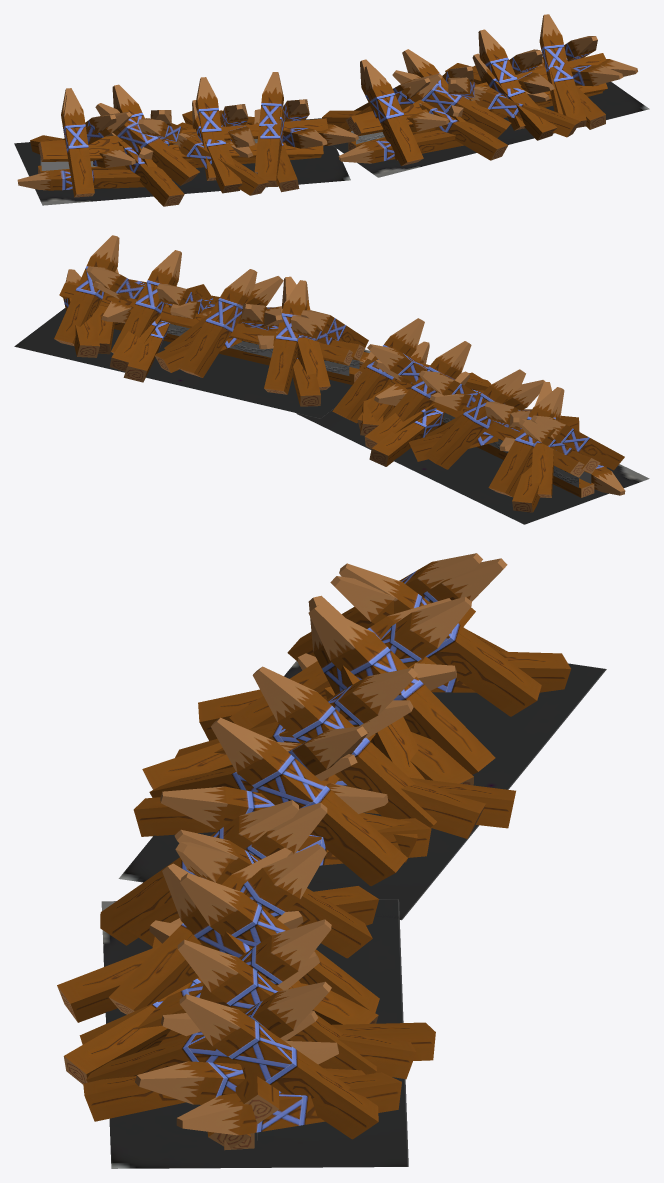
The model's file is ZhaLan.fbx.
3 views of the same model, one above another, from view 1: azimuth 30°, elevation 25°; view 2: azimuth 150°, elevation 25°; view 3: azimuth 270°, elevation 25° (orthographic). The views are drawn at different scales.
Visible parts, largest first — view 1: zhalan02, zhalan05, zhalan03, zhalan07, zhalan09, zhalan01, zhalan01_yingzi, zhalan01_yingzi01; view 2: zhalan09, zhalan01, zhalan02, zhalan01_yingzi01, zhalan05, zhalan07, zhalan01_yingzi, zhalan03; view 3: zhalan01, zhalan09, zhalan05, zhalan07, zhalan02, zhalan01_yingzi01, zhalan03, zhalan01_yingzi.
Part boxes in pixels (<box>): zhalan02: <box>39,93,327,197</box>; zhalan05: <box>340,53,623,165</box>; zhalan03: <box>17,109,358,206</box>; zhalan07: <box>322,57,637,163</box>; zhalan09: <box>346,14,606,160</box>; zhalan01: <box>38,72,328,180</box>; zhalan01_yingzi: <box>14,118,350,205</box>; zhalan01_yingzi01: <box>332,81,649,177</box>; zhalan09: <box>54,235,352,394</box>; zhalan01: <box>332,318,606,497</box>; zhalan02: <box>357,341,624,497</box>; zhalan01_yingzi01: <box>14,308,370,418</box>; zhalan05: <box>91,268,368,390</box>; zhalan07: <box>63,269,369,406</box>; zhalan01_yingzi: <box>296,408,649,524</box>; zhalan03: <box>360,352,625,512</box>; zhalan01: <box>211,558,541,886</box>; zhalan09: <box>128,802,379,1140</box>; zhalan05: <box>79,800,416,1148</box>; zhalan07: <box>57,886,435,1150</box>; zhalan02: <box>149,553,507,862</box>; zhalan01_yingzi01: <box>101,899,408,1168</box>; zhalan03: <box>133,651,570,865</box>; zhalan01_yingzi: <box>118,661,606,920</box>.
Size of the model in its own units: 1809 by 225 by 767.
